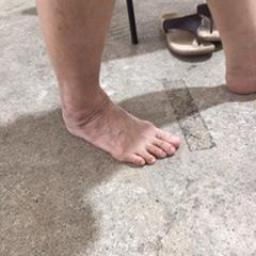Lateral View -Right Foot-: (51, 70, 188, 189)
